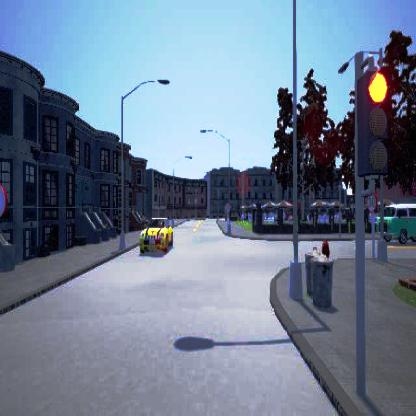vehicle: (374, 202, 415, 241), (139, 217, 172, 253)
